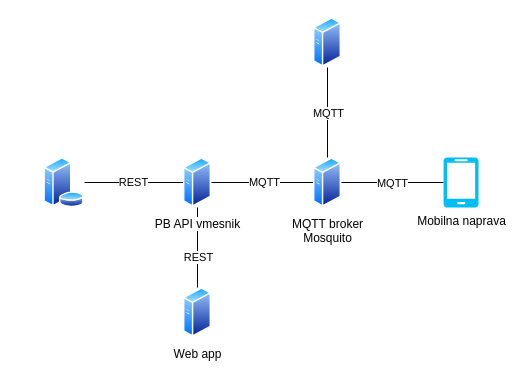
This 522x378 diagram has some shape labels left out. Each missing label, with the centre of its shape:
"Podatkovna baza" belongs at (63,182).
"Prepoznava hrane iz slik" belongs at (327,42).
